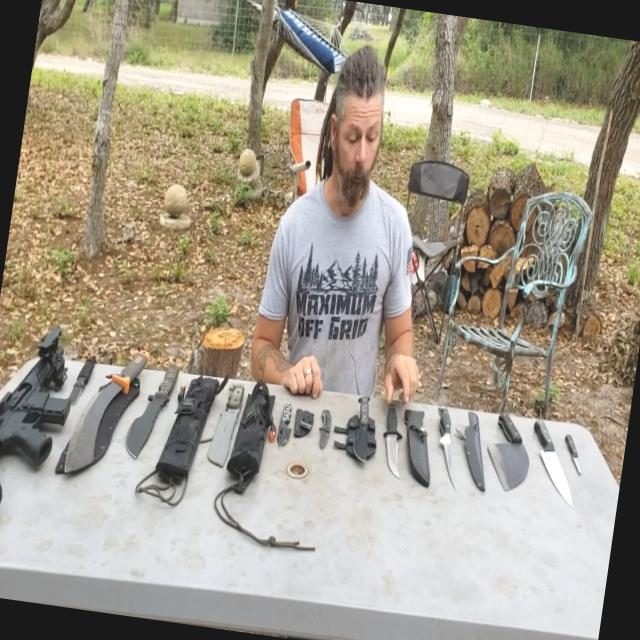knife: (64, 342, 158, 485), (117, 352, 184, 468), (46, 334, 112, 440), (198, 376, 260, 474), (522, 410, 580, 508), (478, 398, 534, 489), (428, 391, 470, 479), (550, 424, 606, 490), (372, 389, 412, 480), (262, 394, 305, 476), (347, 386, 381, 472), (314, 402, 336, 452)
long weapon: (0, 319, 82, 556)
